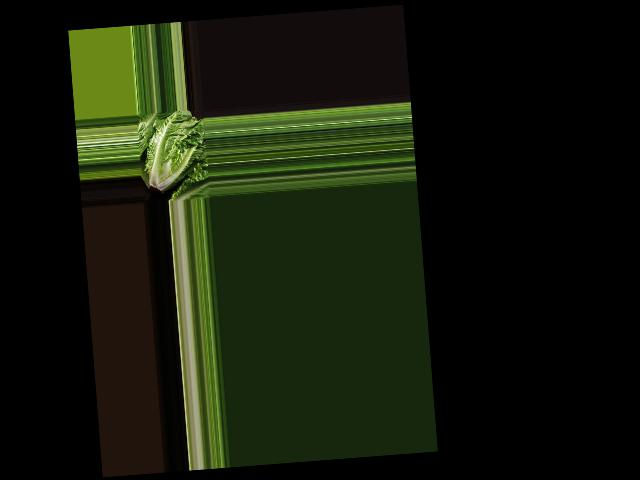lettuce: (135, 110, 205, 198)
